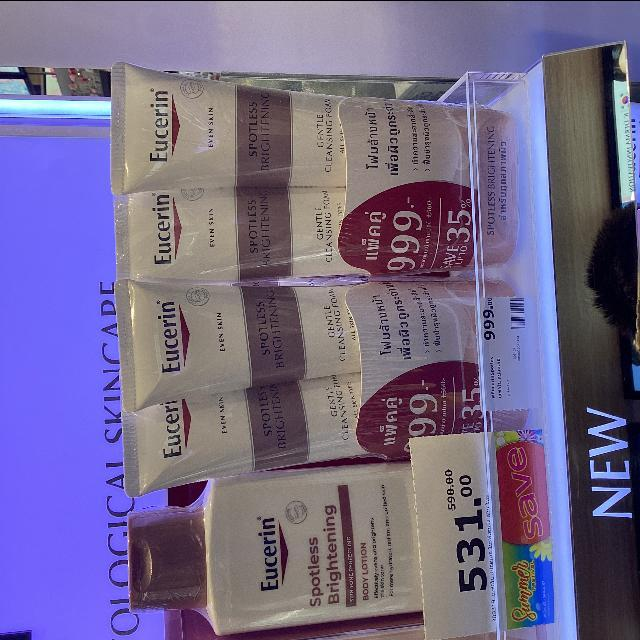Squeeze Tube: (93, 44, 525, 286), (93, 272, 536, 466)
